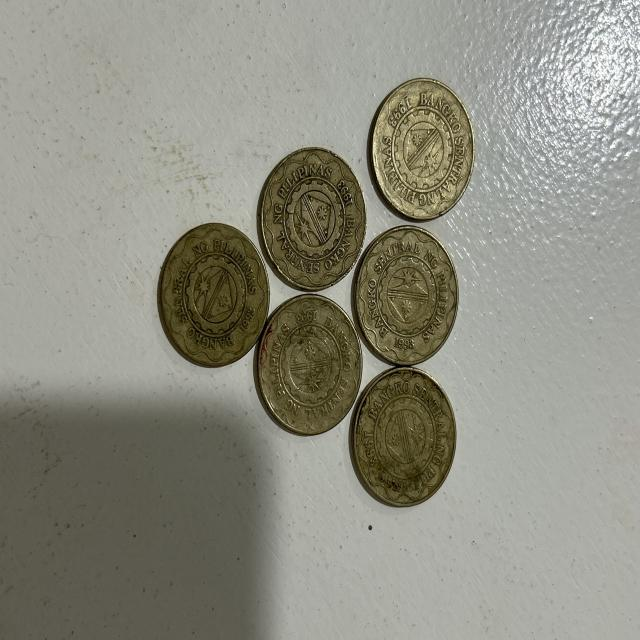5_Old_Back: (370, 80, 473, 224), (163, 218, 274, 350), (257, 152, 368, 278), (348, 370, 456, 498), (261, 296, 352, 444), (348, 228, 452, 356)
